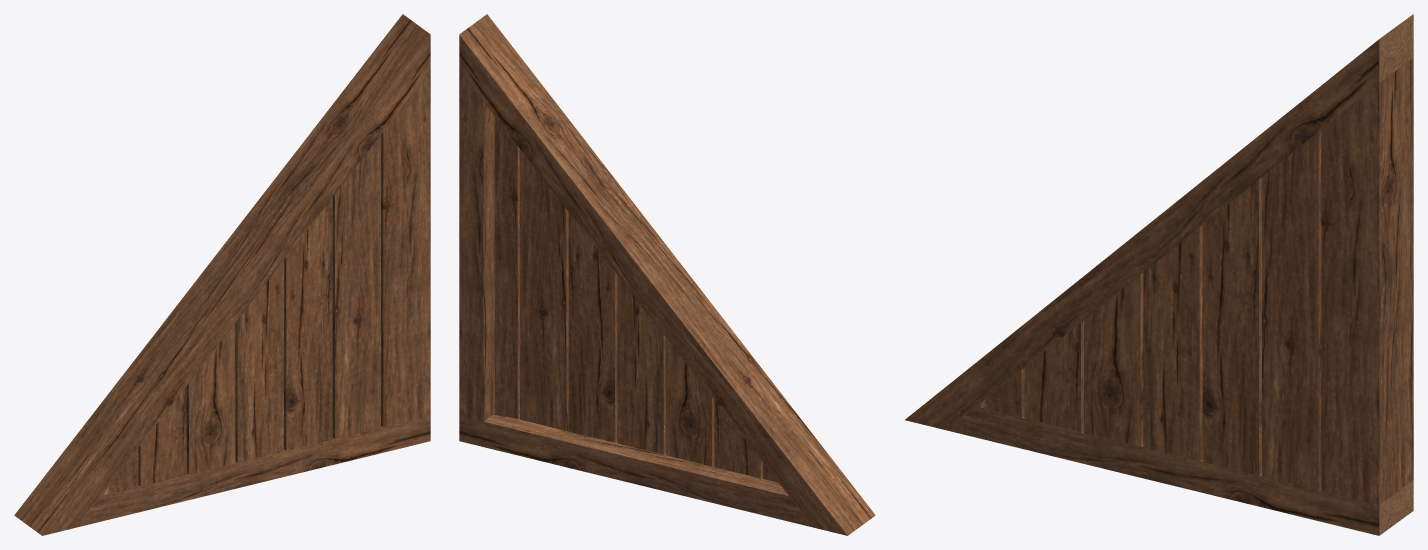
Rendered from W15_GableRising_2x2x0.25.fbx.
3 views of the same model, side by side, from view 1: azimuth 30°, elevation 25°; view 2: azimuth 150°, elevation 25°; view 3: azimuth 330°, elevation 25° (orthographic). The views are drawn at different scales.
Visible parts, largest first — view 1: OpeningKit_W15_Rising_Export; view 2: OpeningKit_W15_Rising_Export; view 3: OpeningKit_W15_Rising_Export.
Part boxes in pixels (box(x1,y1,x2,y2)): OpeningKit_W15_Rising_Export: box(14, 14, 430, 535); OpeningKit_W15_Rising_Export: box(459, 14, 875, 535); OpeningKit_W15_Rising_Export: box(905, 14, 1413, 535).
Bounding box in the file's own units: 2 × 2 × 0.25.
